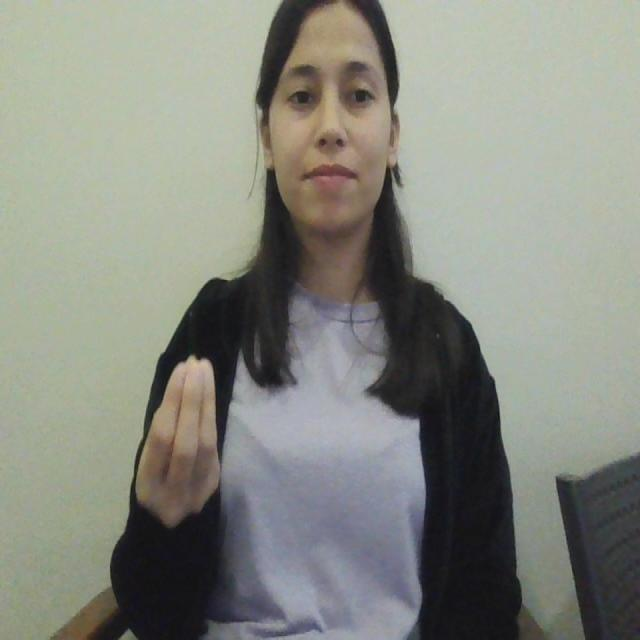iyi: (128, 350, 240, 528)
